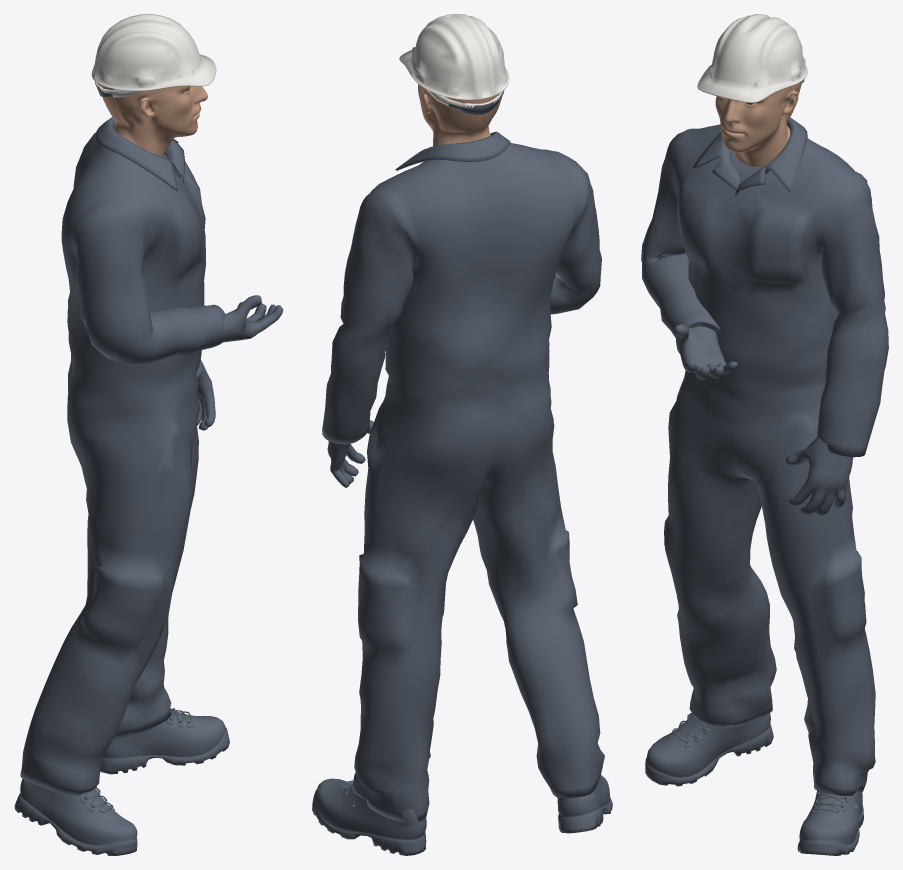
The model's file is construction-worker.glb.
3 renders of one model, left to right at view 1: azimuth 30°, elevation 25°; view 2: azimuth 150°, elevation 25°; view 3: azimuth 270°, elevation 25°, orthographic. The views are drawn at different scales.
Parts seen in each view (by area): view 1: construction_worker; view 2: construction_worker; view 3: construction_worker.
Part boxes in pixels (box(x1,y1,x2,y2)): construction_worker: box(14, 14, 283, 855); construction_worker: box(312, 14, 612, 855); construction_worker: box(641, 14, 888, 855).
Size of the model in its own units: 0.5917 by 1.83 by 0.5159.
